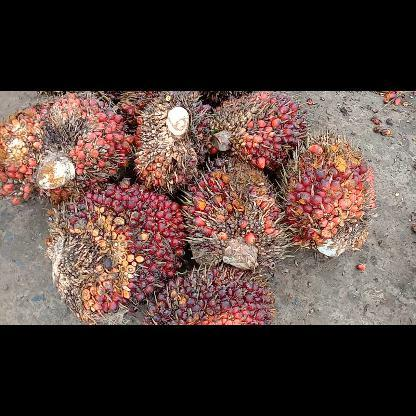TBS masak: (44, 182, 188, 312), (0, 90, 138, 202), (178, 158, 294, 274), (282, 131, 374, 261), (120, 92, 220, 194), (143, 260, 275, 324), (213, 91, 311, 171)
